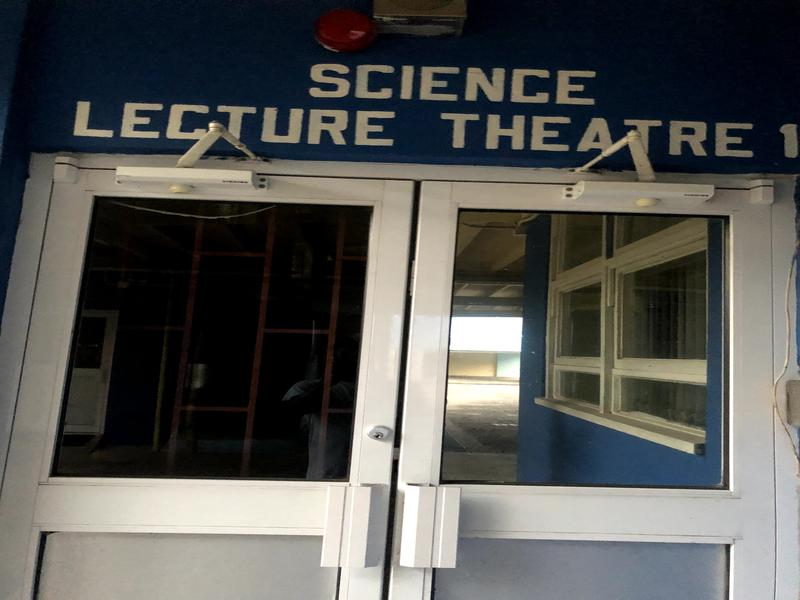18.0051836_-76.7497262_pclt1: (16, 33, 800, 600)
